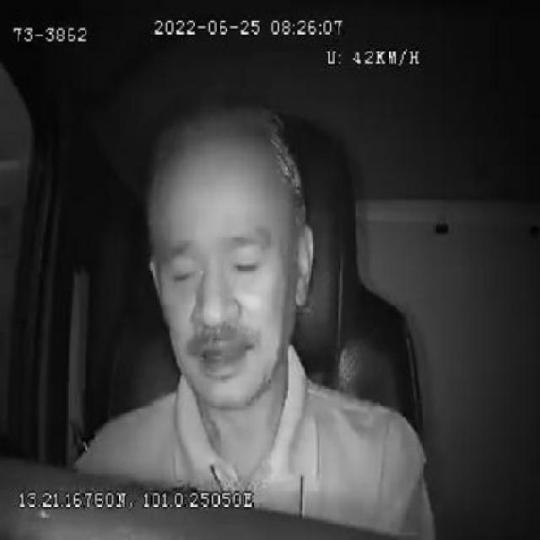phone: (129, 482, 198, 500)
